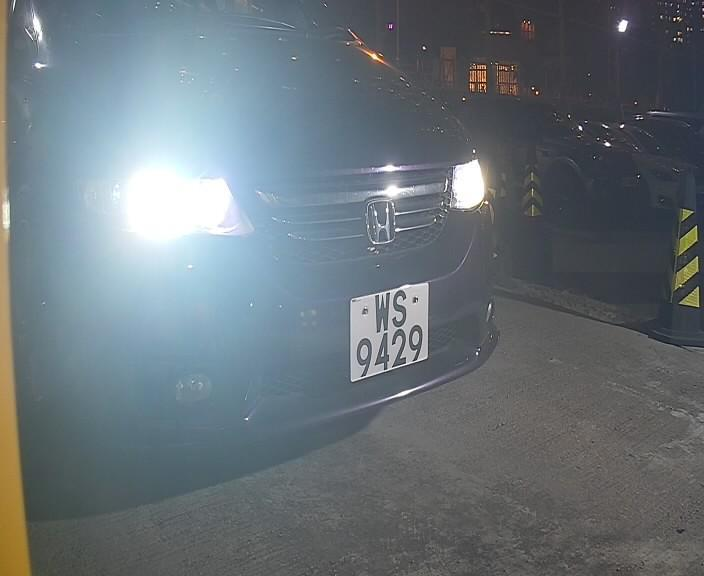License Plate: (340, 268, 434, 394)
